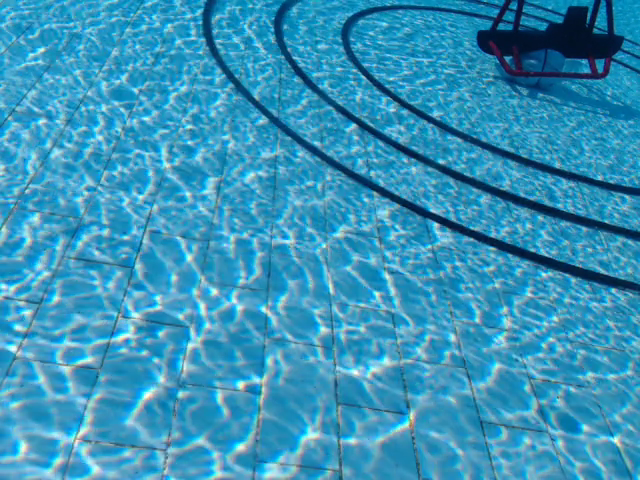submarine: (476, 1, 626, 79)
